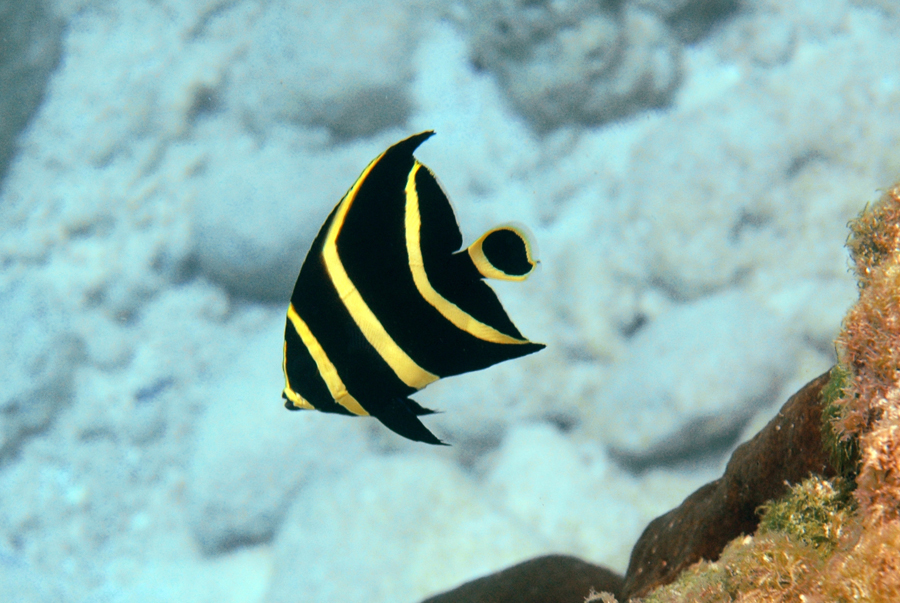Pomacanthus_paru: (251, 129, 567, 441)
